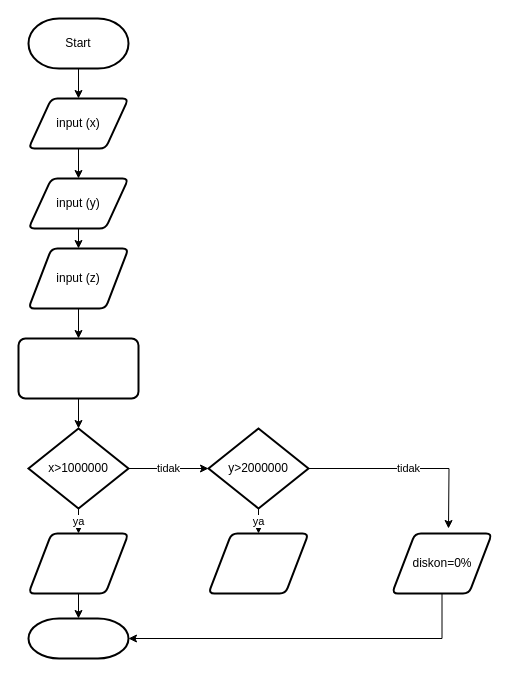
Some shapes in this 510 by 676 pixel diagram are drawn without their labels. The shapes that lost their labels are listed below. From the top down, each one's box as (x1, y1, x2, y2) in pixels, then its label:
(17, 337, 139, 399): proses=total-diskon
(27, 532, 129, 594): diskon=5%
(207, 532, 309, 594): diskon=10%
(27, 617, 129, 659): End
